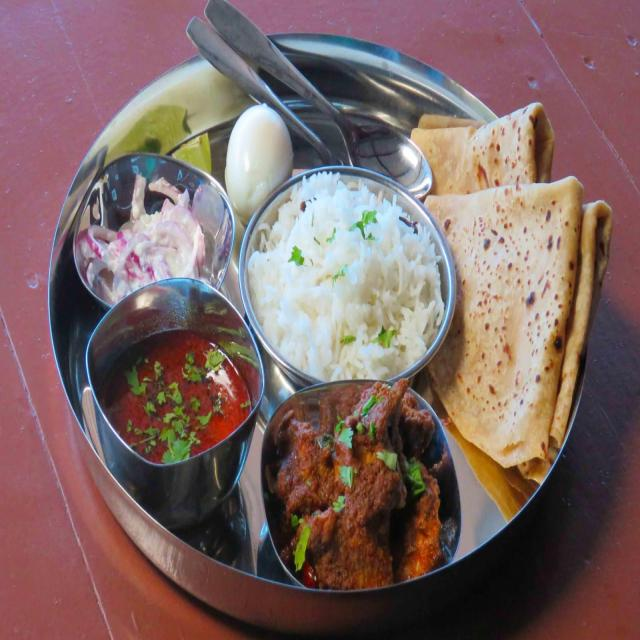non veg meals: (53, 24, 618, 609)
